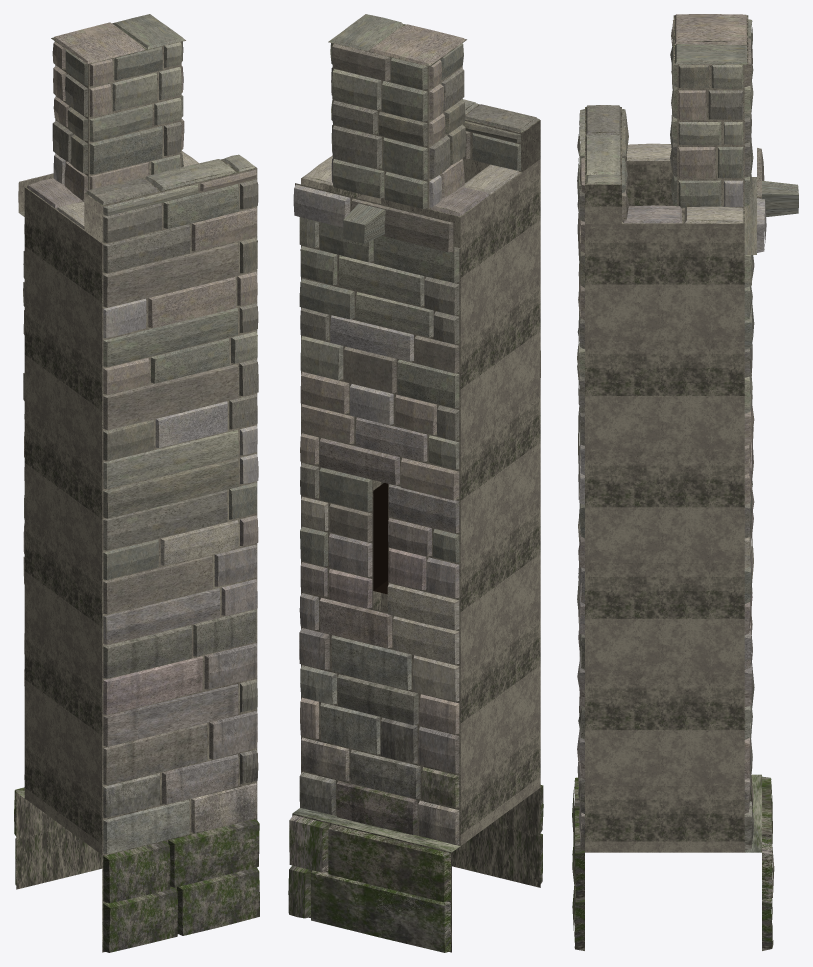
Rendered from fort_wall_gable.glb.
3 views of the same model, side by side, from view 1: azimuth 30°, elevation 25°; view 2: azimuth 150°, elevation 25°; view 3: azimuth 270°, elevation 25° (orthographic). The views are drawn at different scales.
Visible parts, largest first — view 1: fort_wall_gable; view 2: fort_wall_gable; view 3: fort_wall_gable.
Boxes of the visible parts, left/top/right/bottom form: fort_wall_gable: left=14, top=14, right=259, bottom=952; fort_wall_gable: left=288, top=14, right=543, bottom=952; fort_wall_gable: left=572, top=14, right=798, bottom=950.
Bounding box in the file's own units: 1.5 × 7.89 × 1.85.
Materials: 3 (3 with a texture image).
